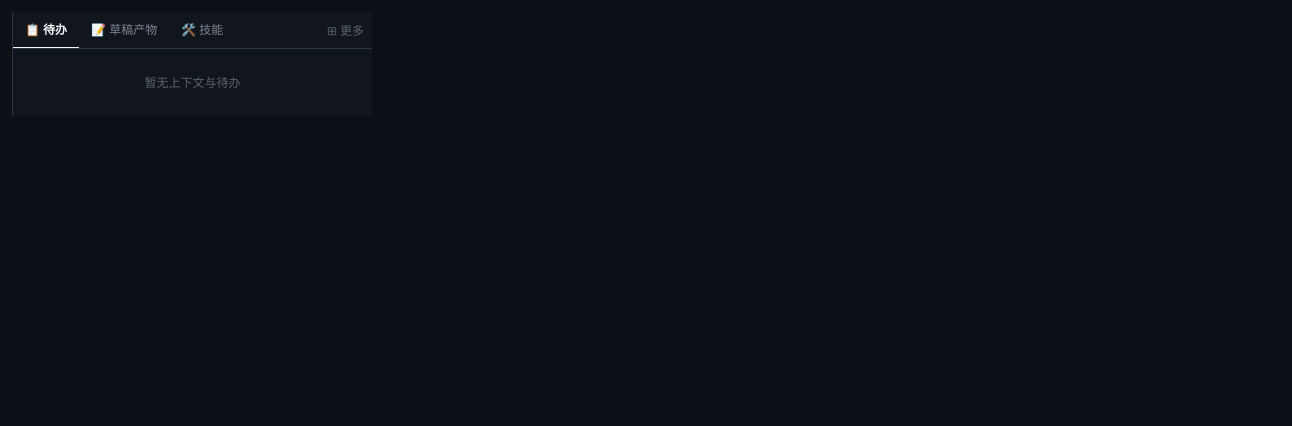
Test: T-1026 外点菜单区域 → 收起
Click the button titled "更多面板（低频页签聚合）". click: (345, 30)
box: left=319, top=14, right=372, bottom=46
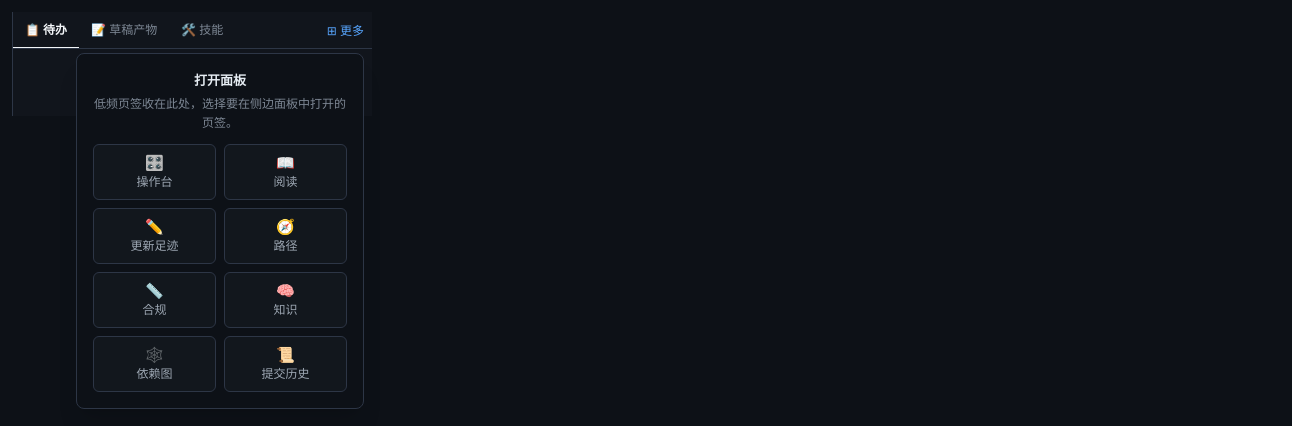
Result: the element with test id "more-panels-menu" is shown at left=76, top=53, right=364, bottom=409
Press the mouse on the element that starts with "📋 待办" at (652, 64), box left=12, top=12, right=1291, bottom=116
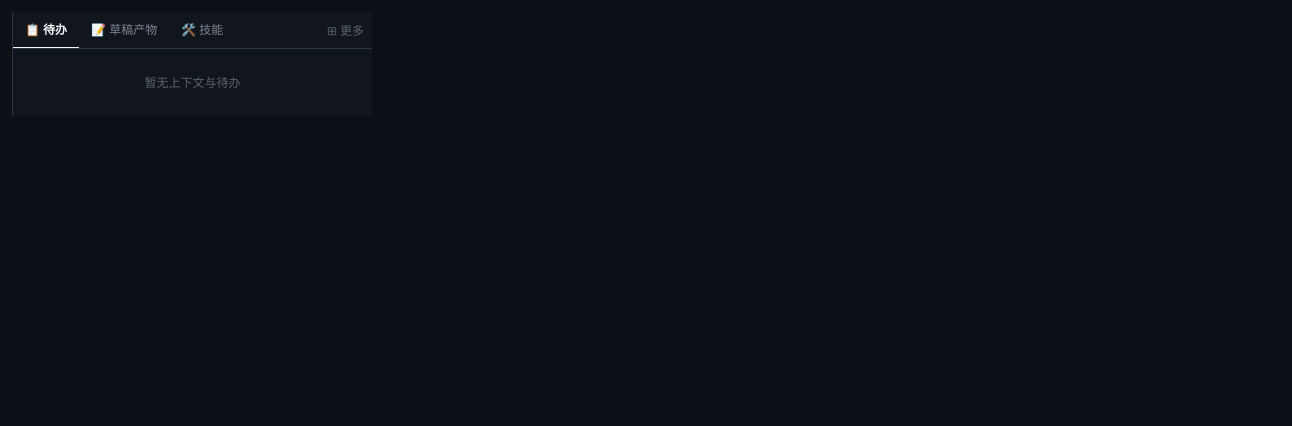
Result: the element with test id "more-panels-menu" is gone
